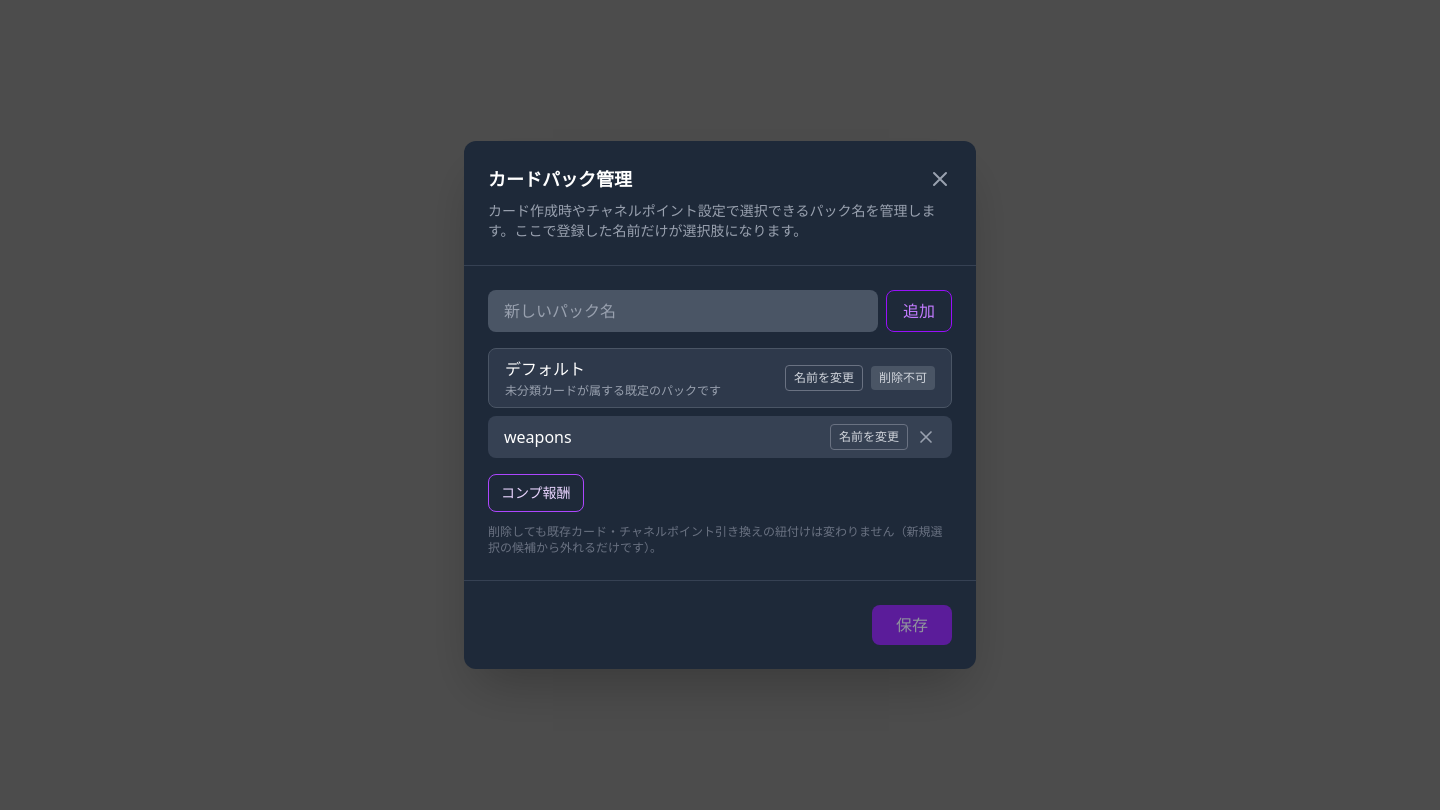
CardPackModal maintenance integration › mode=off で変更ありのときは保存ボタンが操作可能（既存挙動を壊さない）
This screenshot has width=1440, height=810.
Click the button named "Remove weapons".
click(926, 437)  # box [916,427,936,447]
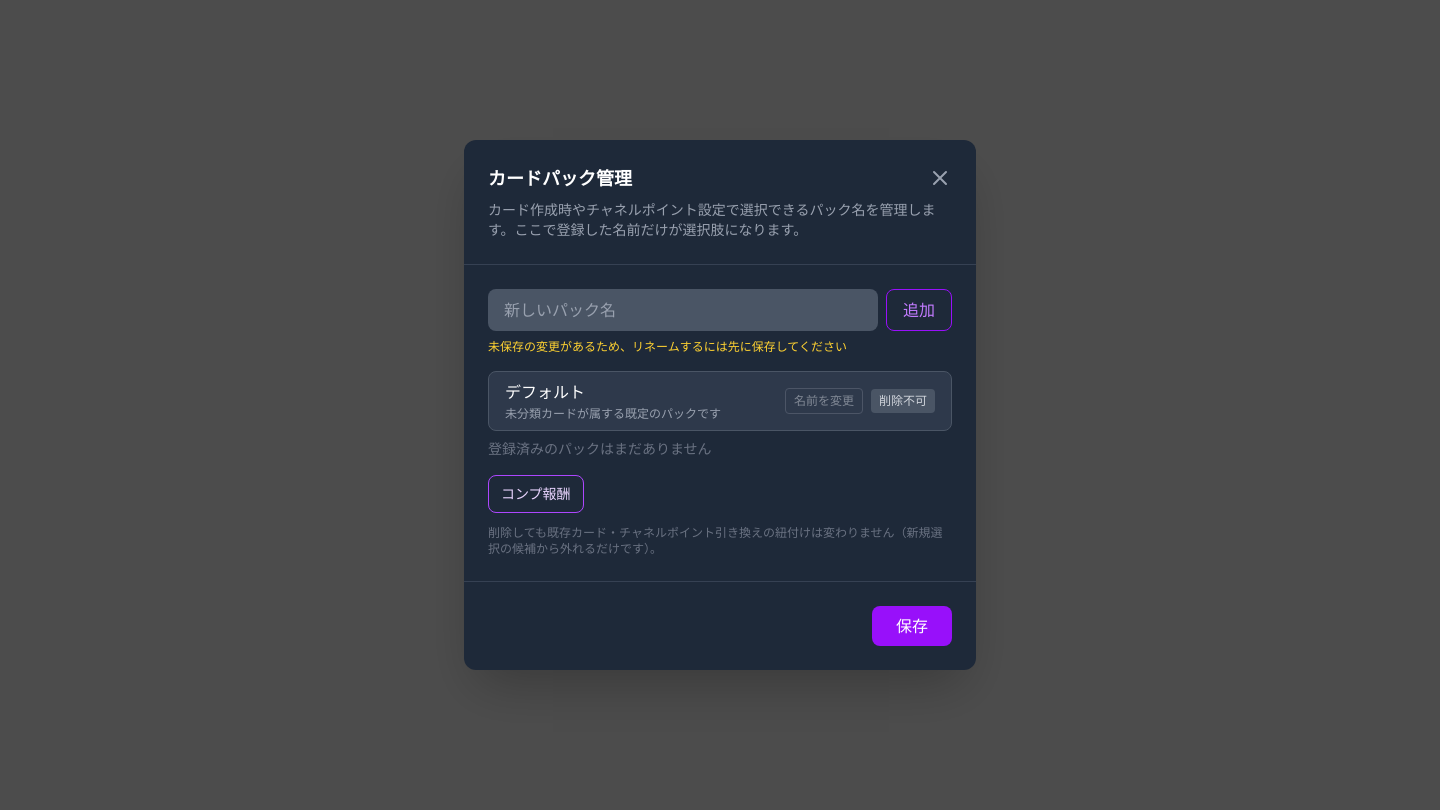
Expected: the button "保存" is enabled, [872,606,952,646]
